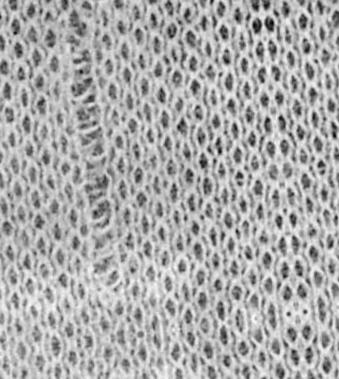slub: (69, 45, 122, 292)
